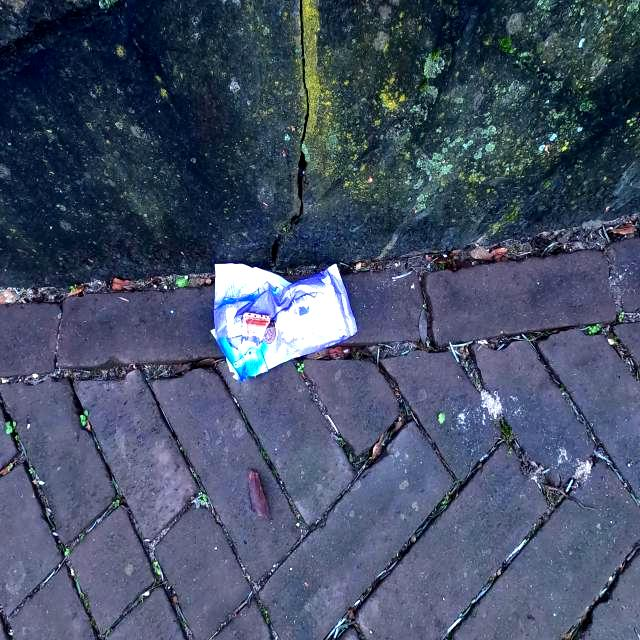Plastic: (210, 262, 358, 382)
